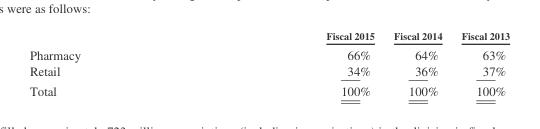table: (28, 29, 509, 97)
table column: (202, 29, 383, 97), (28, 29, 202, 97), (383, 29, 451, 97), (451, 29, 509, 97)
table column header: (28, 29, 509, 44)
table row: (28, 44, 509, 62), (28, 62, 509, 80), (28, 80, 509, 97), (28, 29, 509, 44)
